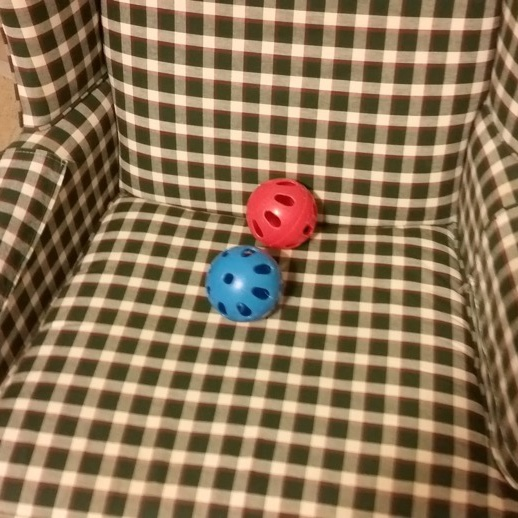ball: (200, 242, 286, 326), (242, 174, 323, 254)
